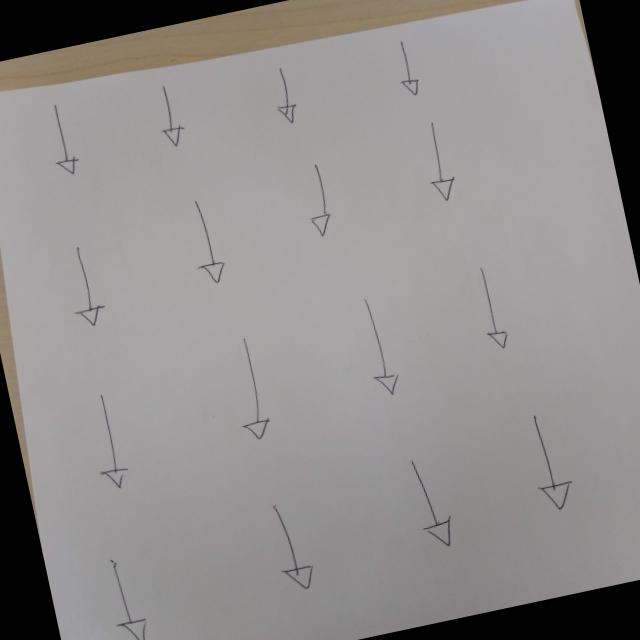arrow_line_down: (254, 496, 324, 600), (398, 451, 464, 556), (522, 406, 582, 516), (78, 392, 140, 498), (351, 299, 412, 406), (220, 338, 280, 445), (99, 551, 159, 640), (182, 192, 238, 286), (459, 264, 518, 352), (60, 243, 111, 332), (417, 116, 465, 206), (35, 98, 85, 184), (146, 78, 196, 153), (295, 159, 342, 238), (266, 58, 310, 131), (386, 38, 433, 102)
